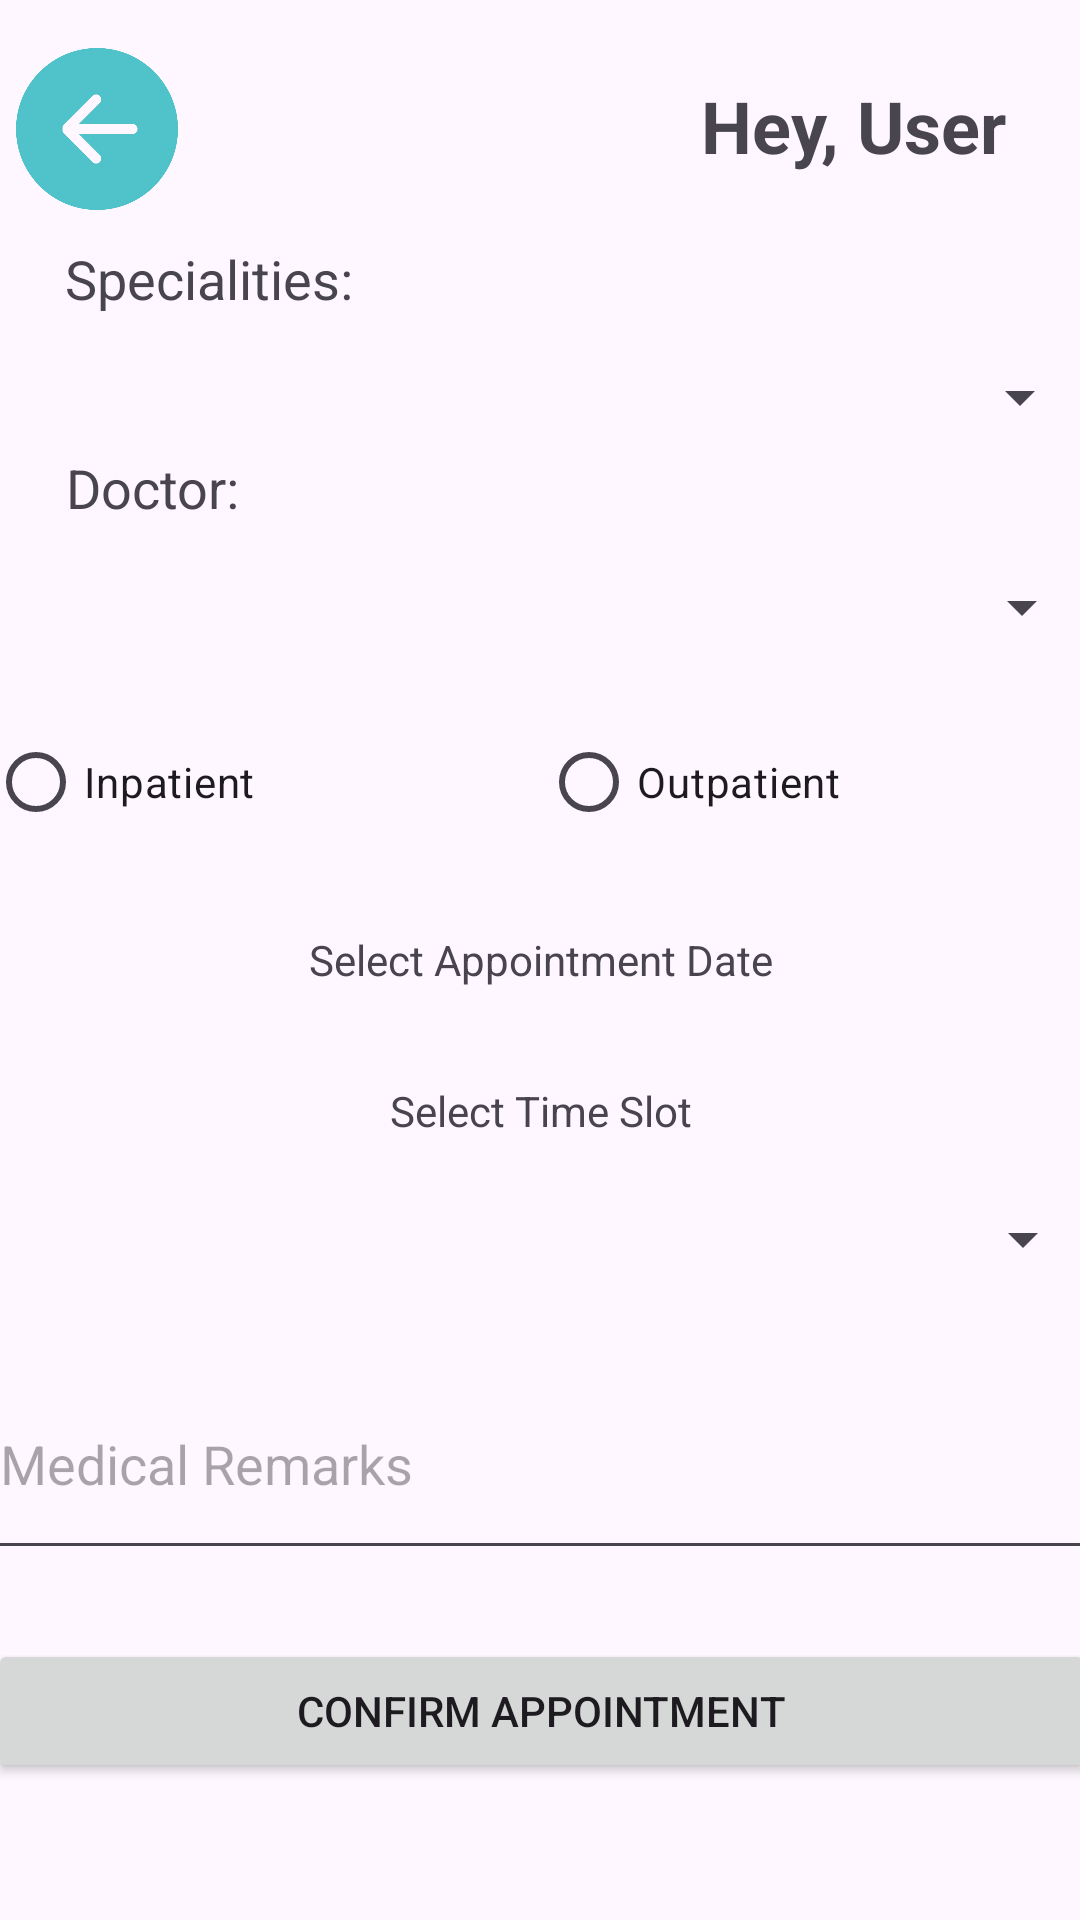

Locate icon controls on the screen. Image size 1080w x 1920h, boxes as (x1, y1, x2, y2).
back arrow: (16, 48, 178, 210)
